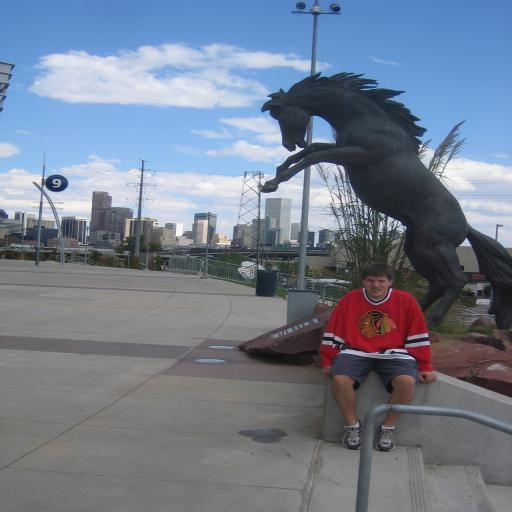horse: (260, 67, 512, 331)
